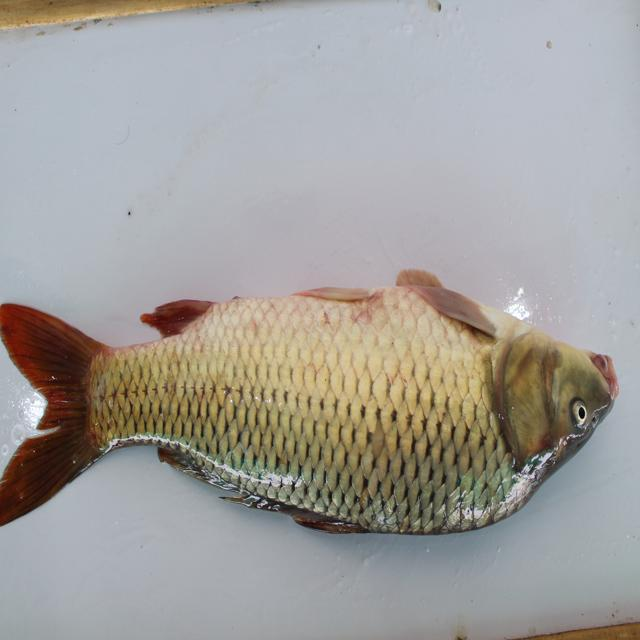CommonCarp: (1, 281, 629, 538)
